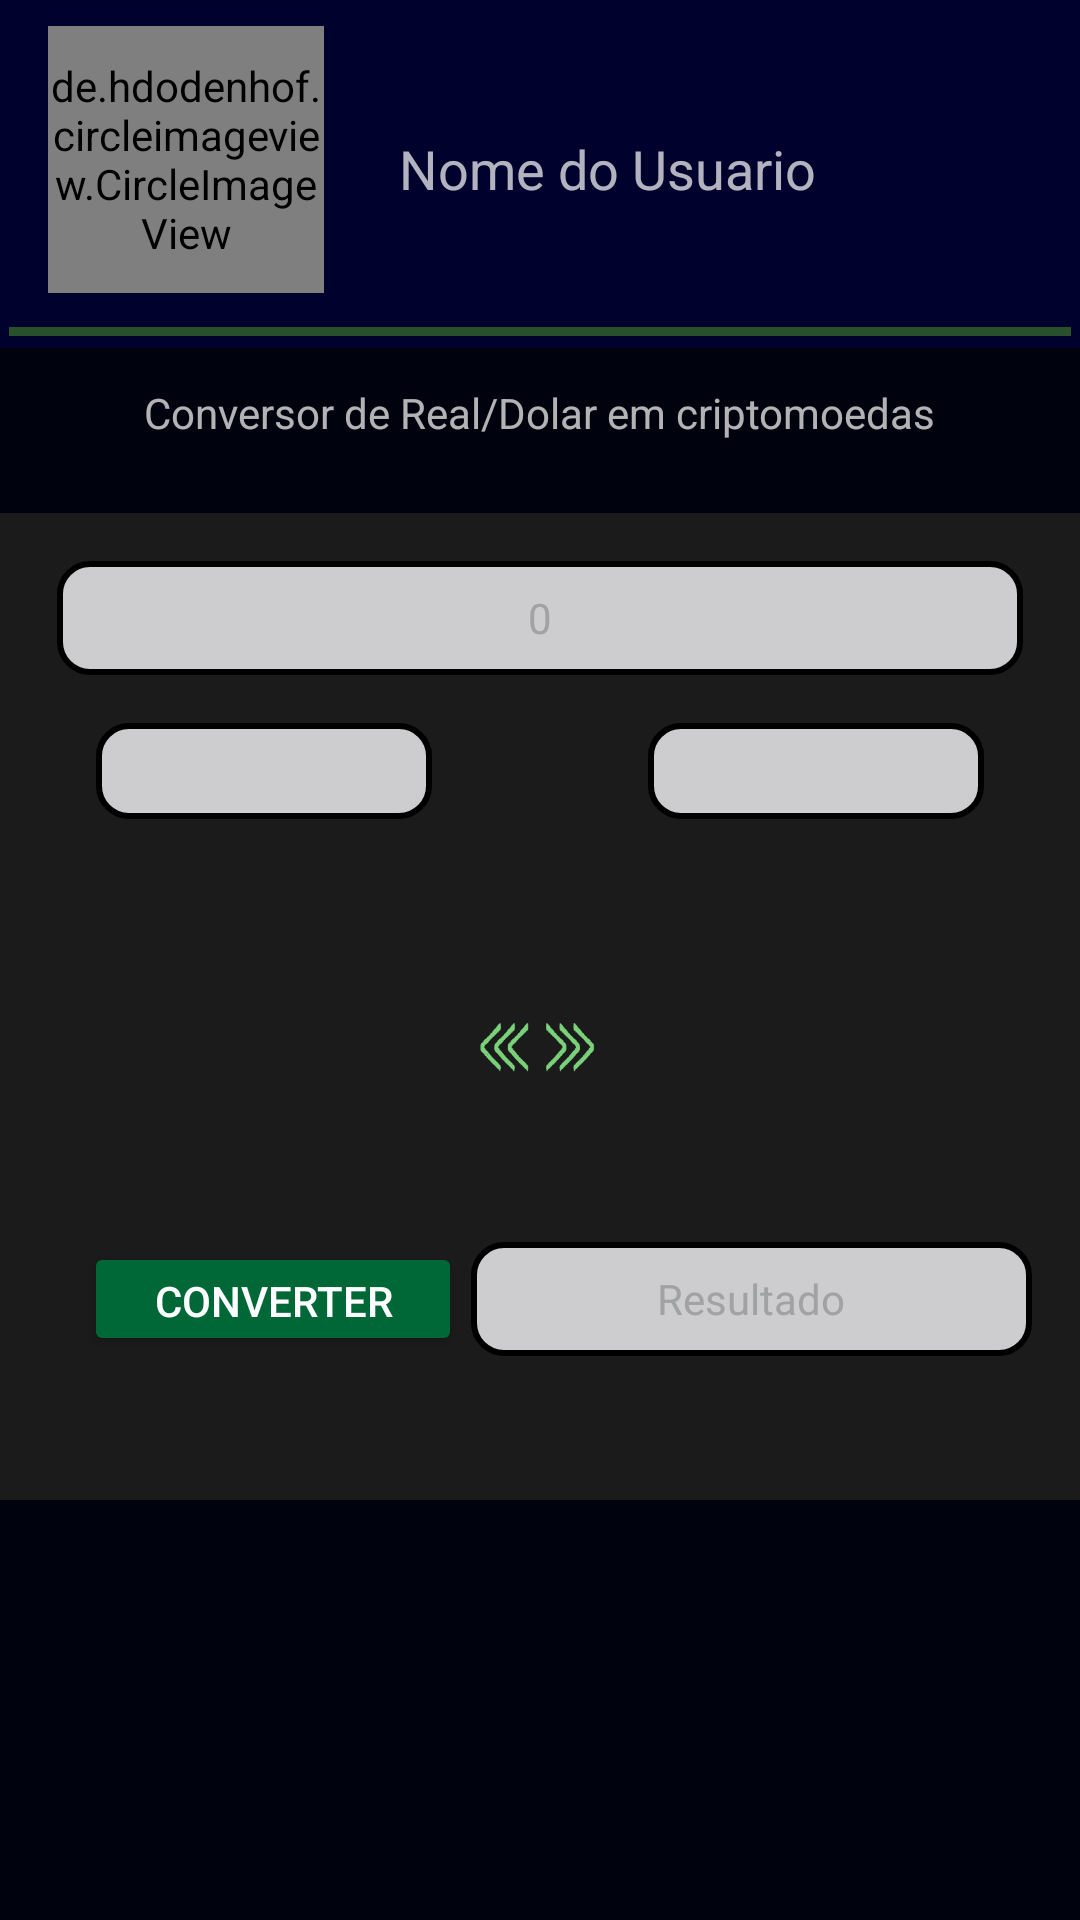

Where to tap for icons on this 1080x1920 app screen, as (x=x, y=y):
inversao: (x=537, y=1047)
